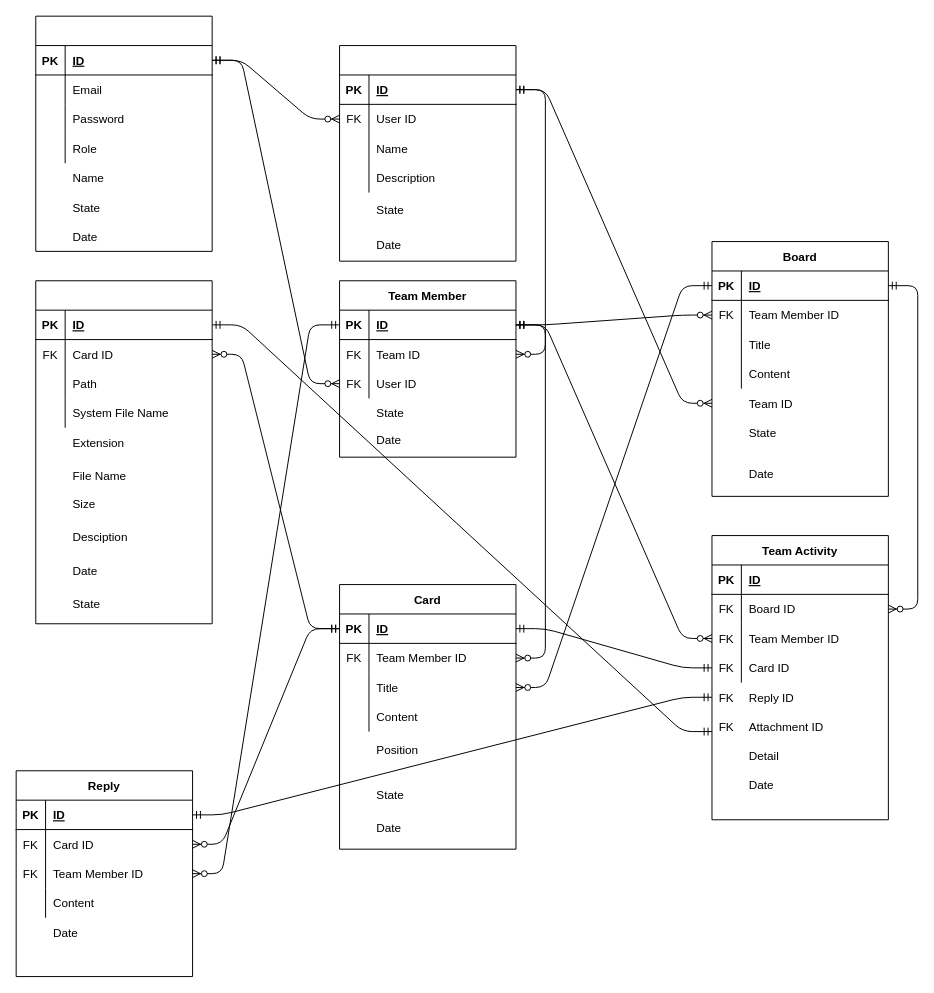
This 934x993 diagram has some shape labels left out. Each missing label, with the box of its shape:
Attachment: (35, 280, 212, 624)
Team: (339, 45, 516, 261)
User: (35, 15, 212, 251)
